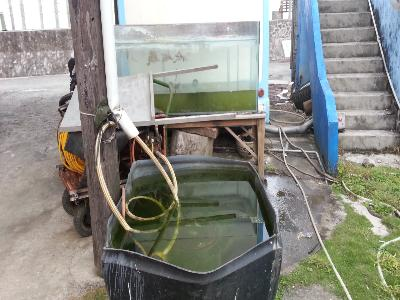aquarium: (109, 19, 264, 119)
bowl: (269, 108, 306, 127)
box: (104, 154, 284, 300)
